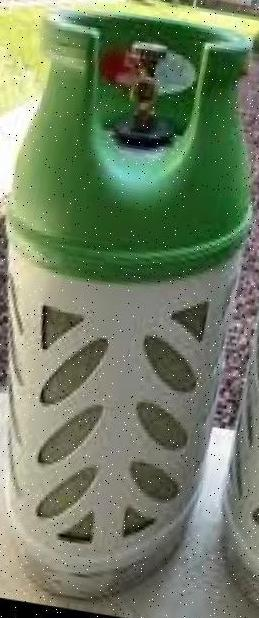cylinder: (1, 0, 259, 618)
